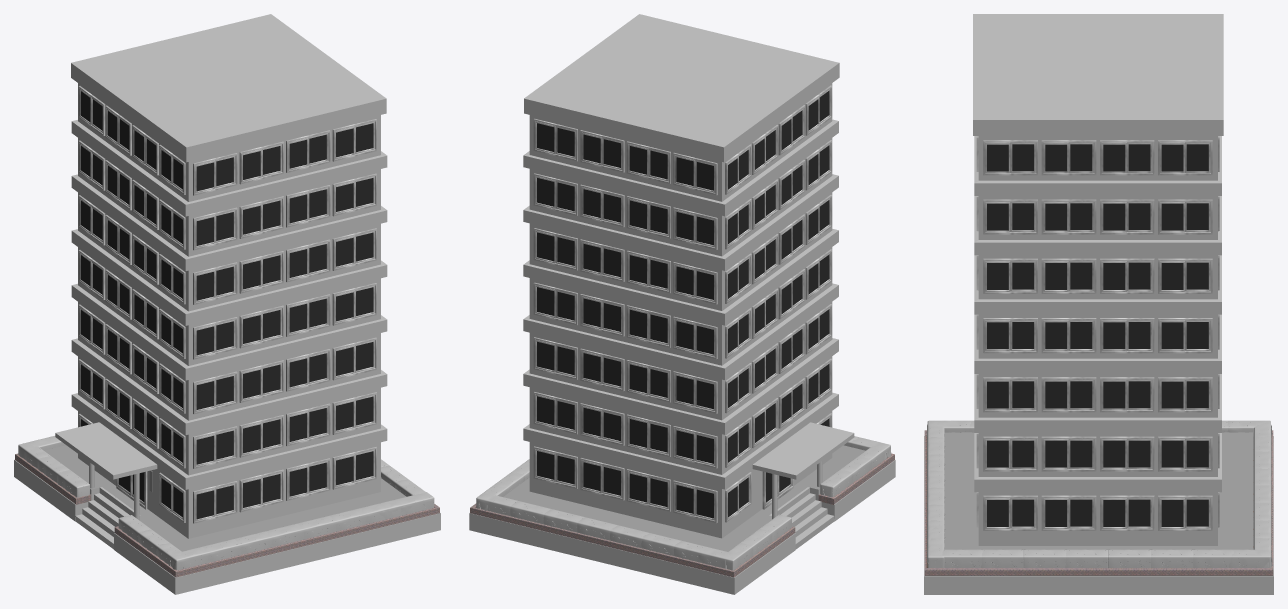
The model's file is corporation_000.fbx.
3 renders of one model, left to right at view 1: azimuth 30°, elevation 25°; view 2: azimuth 150°, elevation 25°; view 3: azimuth 270°, elevation 25°, orthographic. The views are drawn at different scales.
Visible parts, largest first — view 1: bill1; view 2: bill1; view 3: bill1.
Part boxes in pixels (bbox=[...]): bill1: bbox=[14, 14, 440, 594]; bill1: bbox=[469, 14, 895, 594]; bill1: bbox=[924, 14, 1273, 594].
Size of the model in its own units: 10.28 by 15.06 by 10.42.
